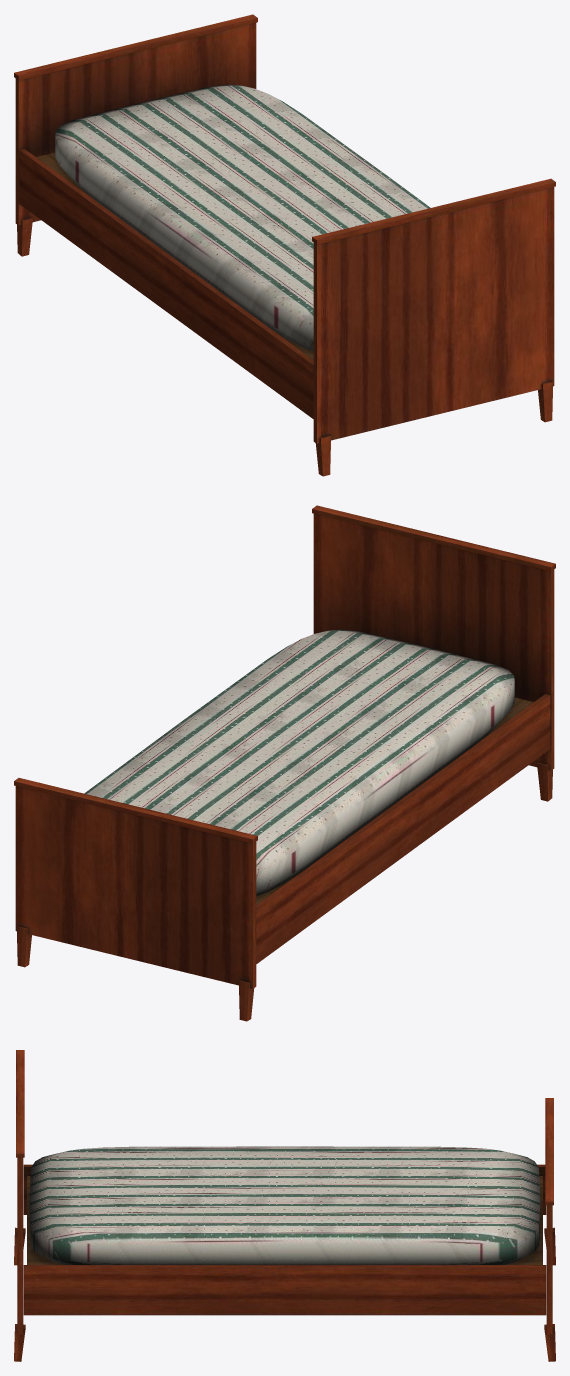
The model's file is bed_polished_web.glb.
3 renders of one model, top to bottom at view 1: azimuth 30°, elevation 25°; view 2: azimuth 150°, elevation 25°; view 3: azimuth 270°, elevation 25°, orthographic. The views are drawn at different scales.
Visible parts, largest first — view 1: BedPolished_Mesh; view 2: BedPolished_Mesh; view 3: BedPolished_Mesh.
Boxes of the visible parts, box(x1,y1,x2,y2) form: BedPolished_Mesh: box(14, 14, 555, 476); BedPolished_Mesh: box(14, 505, 555, 1021); BedPolished_Mesh: box(14, 1050, 555, 1361).
Size of the model in its own units: 0.926 by 0.877 by 2.05.
Materials: 1 (1 with a texture image).
